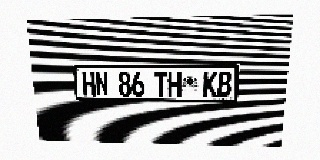6: (131, 72, 145, 96)
8: (118, 72, 132, 96)
B: (217, 71, 232, 97)
H: (82, 72, 96, 96), (168, 72, 181, 97)
K: (203, 71, 218, 97)
N: (95, 72, 109, 96)
T: (154, 72, 167, 97)
